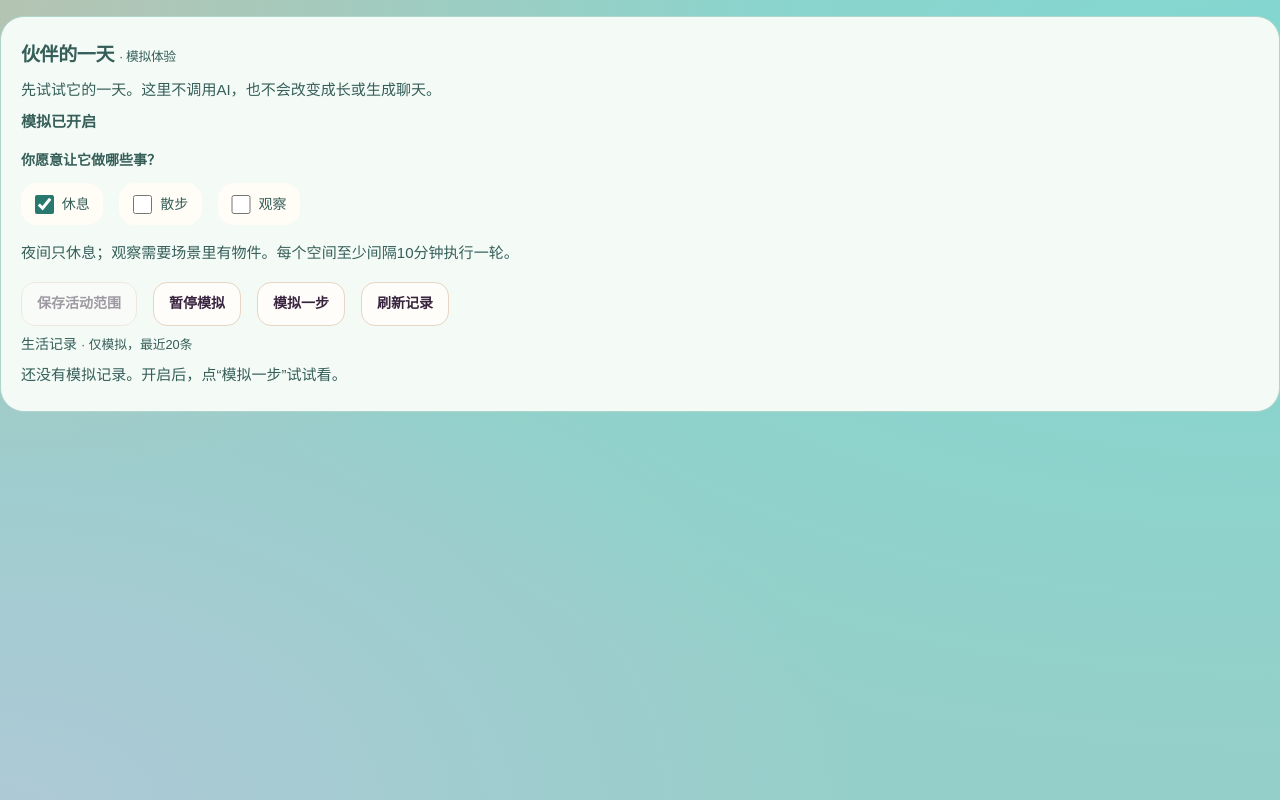
Test: blocks writes after unknown result until explicit read succeeds
Expected: the text "模拟已开启" is shown, [21,112,96,130]
What coordinates should you click on to do the following:
click the button "模拟一步"
I would click on:
 (301, 304)
Its box is [257,282,345,326].
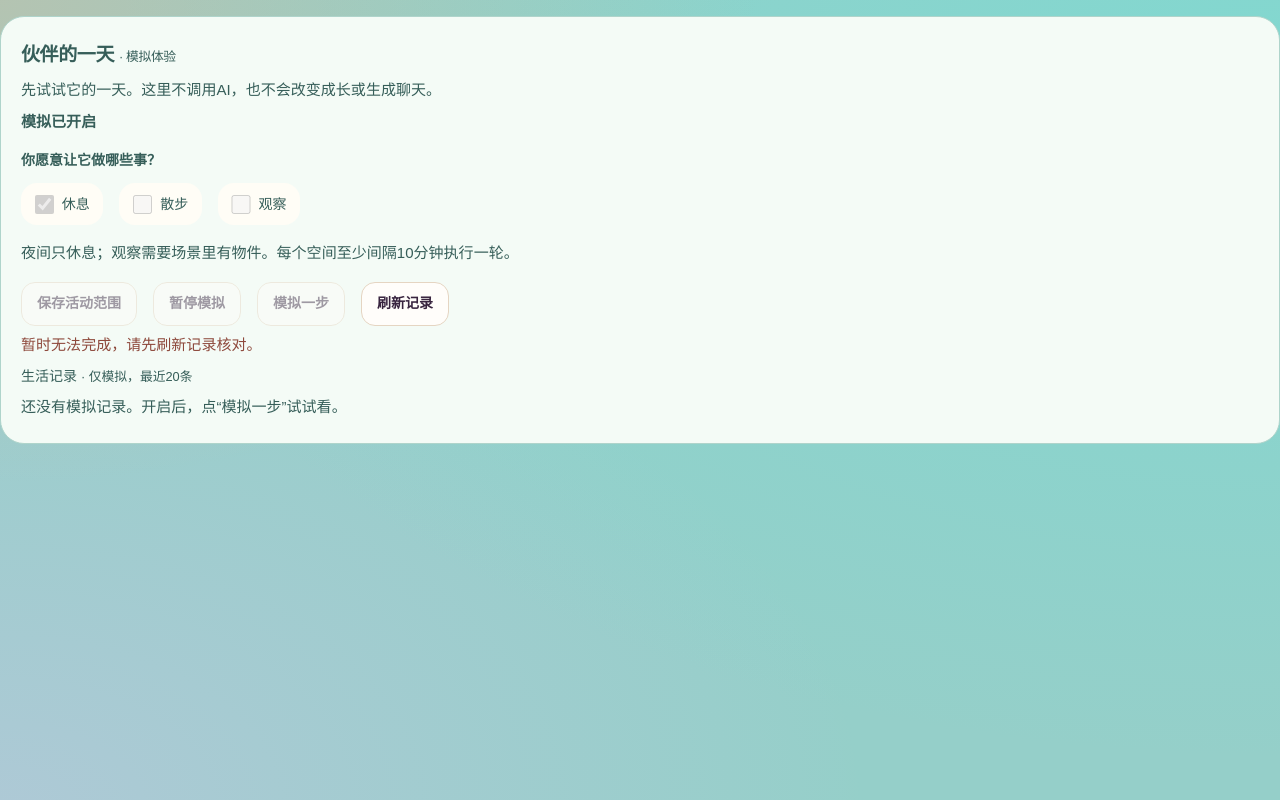
Expected: the button "模拟一步" is disabled, [257,282,345,326]
What coordinates should you click on to do the following:
click the button "刷新记录"
I would click on:
 (405, 304)
Its box is [361,282,449,326].
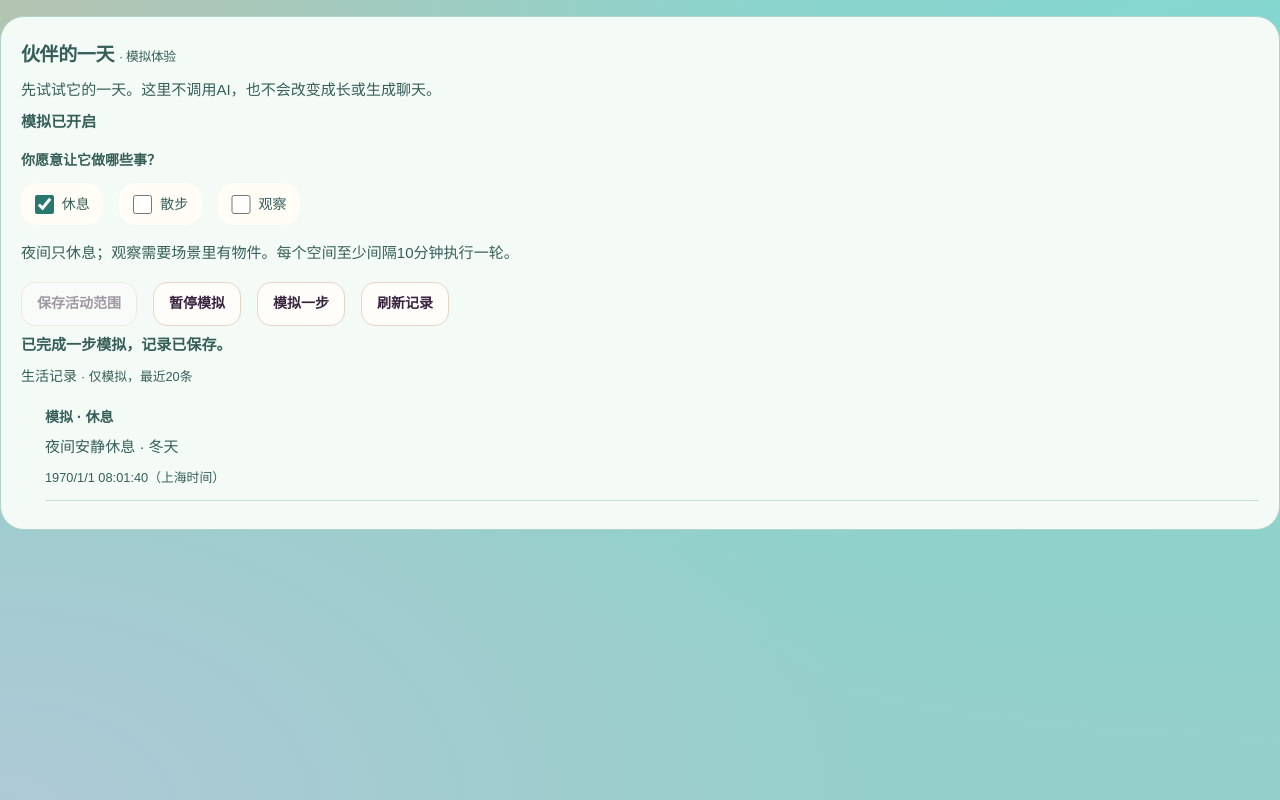
Expected: the text "模拟 · 休息" is shown, [45,409,114,425]
